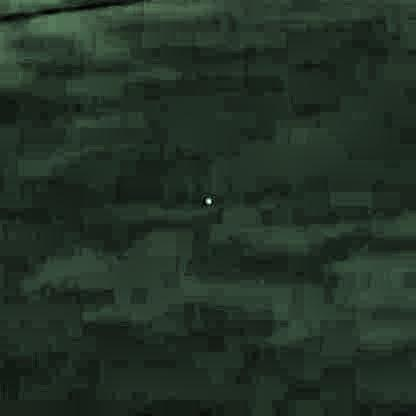golfball: (202, 195, 212, 202)
